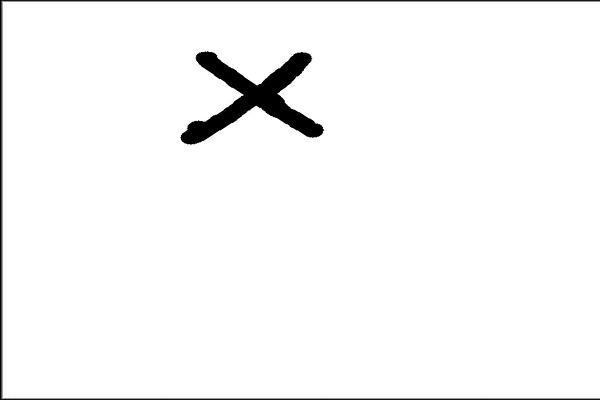X: (158, 31, 322, 162)
